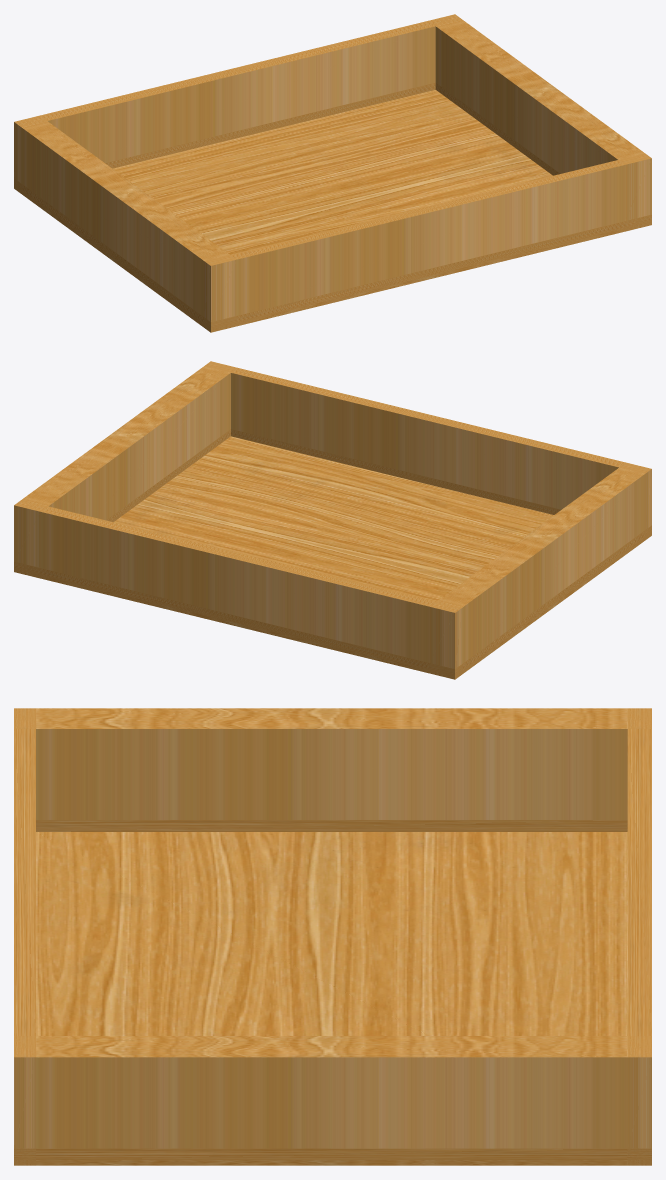
File: board.obj
3 views of the same model, one above another, from view 1: azimuth 30°, elevation 25°; view 2: azimuth 150°, elevation 25°; view 3: azimuth 270°, elevation 25° (orthographic). The views are drawn at different scales.
Parts seen in each view (by area): view 1: Cube; view 2: Cube; view 3: Cube.
Part boxes in pixels (bbox=[...]): Cube: bbox=[14, 14, 651, 332]; Cube: bbox=[14, 361, 651, 679]; Cube: bbox=[14, 708, 651, 1165].
Size of the model in its own units: 55.96 by 8.09 by 43.25.
Materials: 1 (1 with a texture image).
